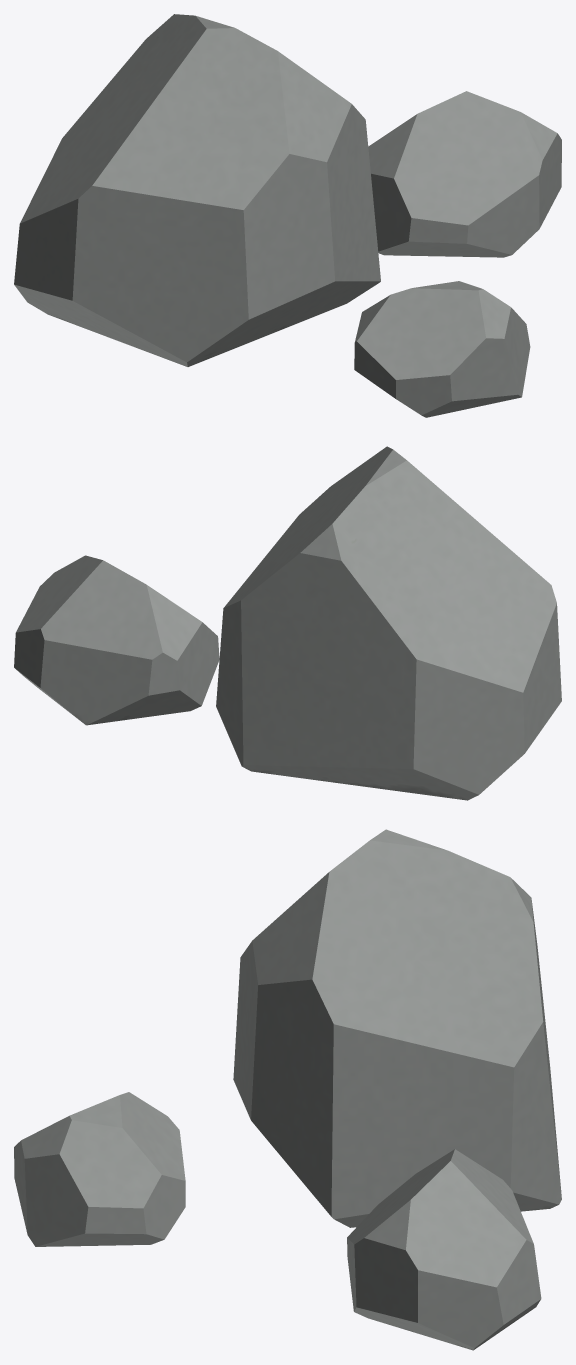
File: hills_rock_cluster_small.glb
3 renders of one model, top to bottom at view 1: azimuth 30°, elevation 25°; view 2: azimuth 150°, elevation 25°; view 3: azimuth 270°, elevation 25°, orthographic. The views are drawn at different scales.
Visible parts, largest first — view 1: HillsRockClusterSmall; view 2: HillsRockClusterSmall; view 3: HillsRockClusterSmall.
Boxes of the visible parts, <box> form: HillsRockClusterSmall: <box>14,14,561,417</box>; HillsRockClusterSmall: <box>14,446,561,800</box>; HillsRockClusterSmall: <box>14,829,561,1350</box>.
Size of what is drawn, in the model's own units: 1.5 by 0.8 by 1.2.
Materials: 1 (1 with a texture image).
